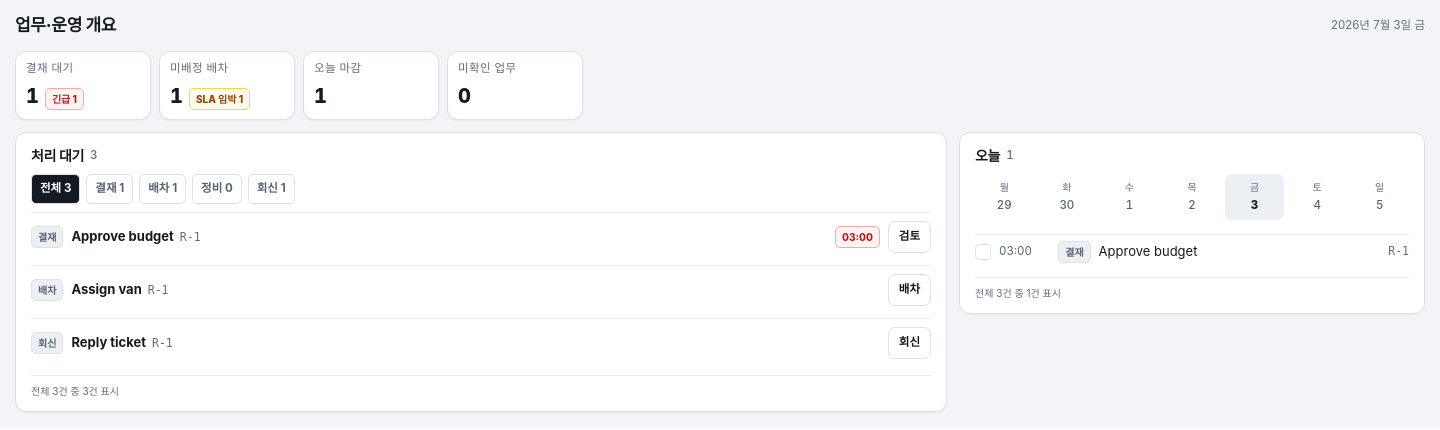
Test case: OverviewBody › shows empty-queue copy when the filter matches nothing
Check: the element "처리 대기" is shown, box [15,132,947,412]
Step 1. Click the button "미확인 업무 0" → [515, 85], box [447,50,583,120]
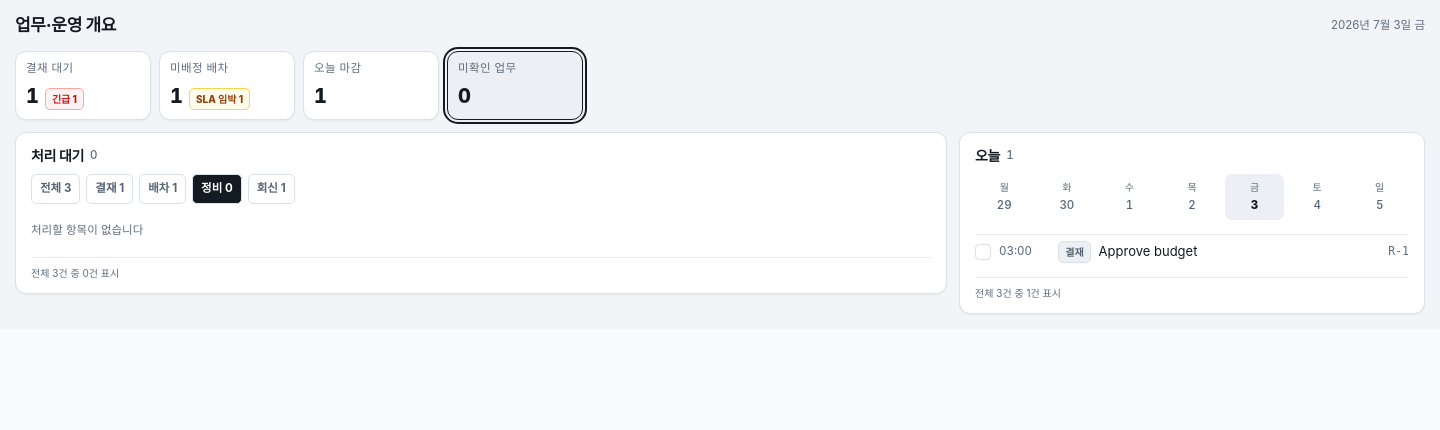
Check: the text "처리할 항목이 없습니다" is shown, box [31,223,143,237]
